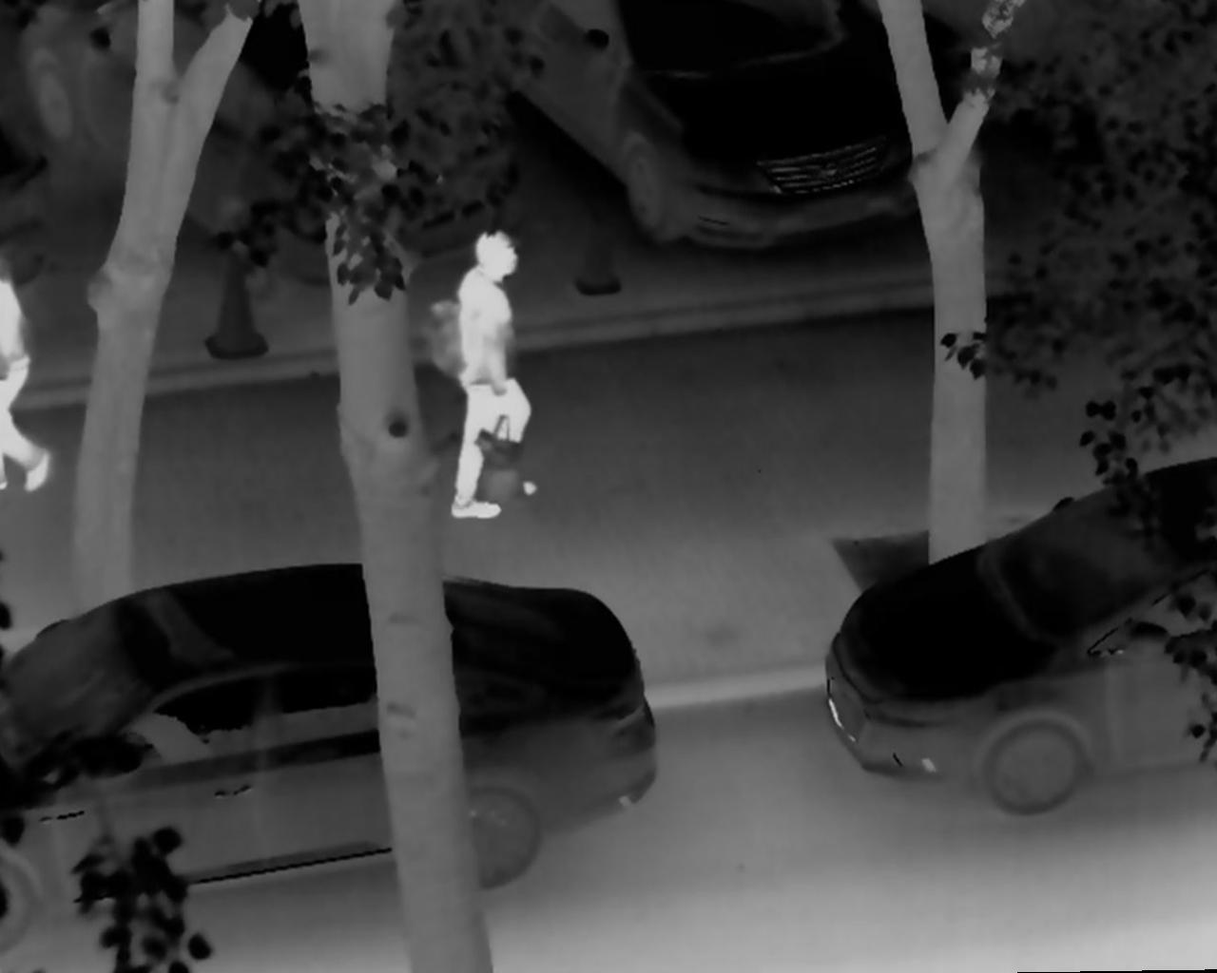person: (445, 217, 547, 525)
